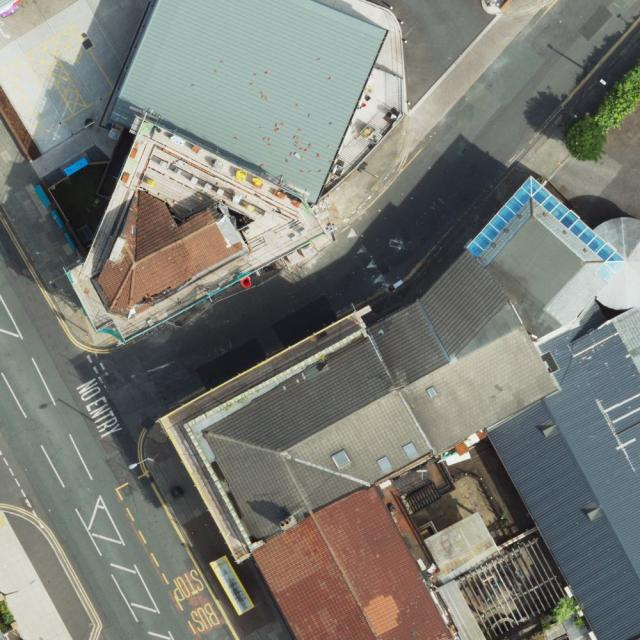roof: (204, 175, 640, 640), (117, 0, 388, 203), (97, 184, 247, 311)
skylight: (466, 174, 625, 283), (330, 446, 354, 472), (400, 439, 421, 461), (376, 455, 394, 473), (424, 383, 440, 401)
